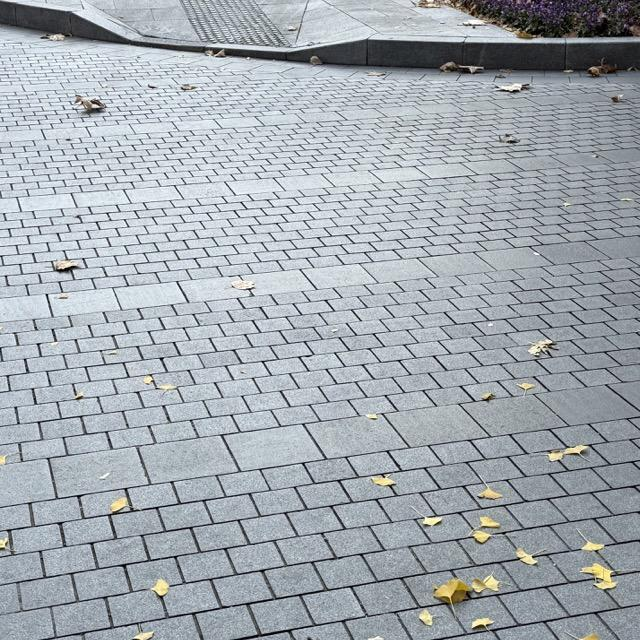curb: (209, 39, 639, 71), (0, 0, 207, 52)
